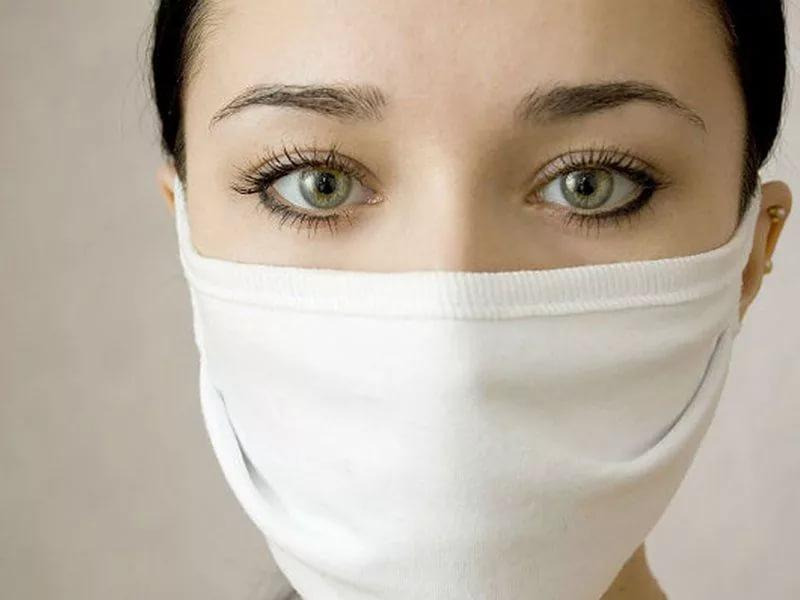mask: (170, 41, 761, 600)
